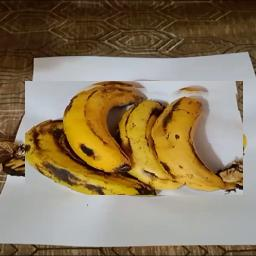Banana Semifresh: (25, 81, 243, 195)
